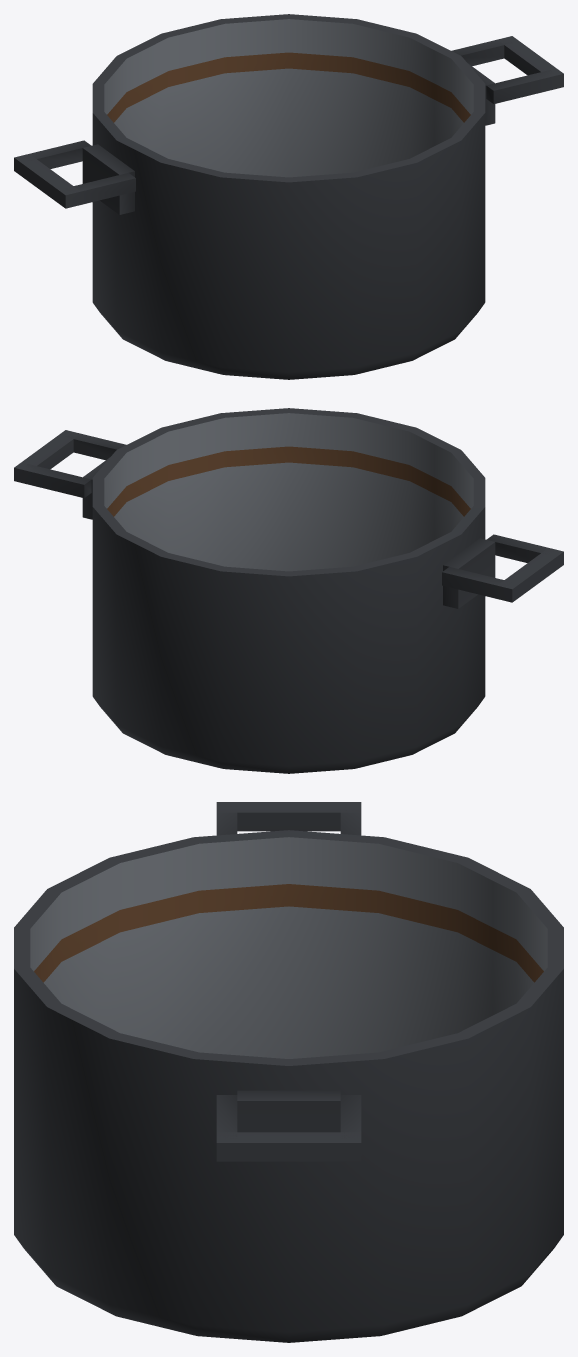
File: potDirty.glb
3 views of the same model, one above another, from view 1: azimuth 30°, elevation 25°; view 2: azimuth 150°, elevation 25°; view 3: azimuth 270°, elevation 25° (orthographic). The views are drawn at different scales.
Visible parts, largest first — view 1: potDirty; view 2: potDirty; view 3: potDirty.
Boxes of the visible parts, <box> form: potDirty: <box>14,14,563,379</box>; potDirty: <box>14,408,563,773</box>; potDirty: <box>14,802,563,1342</box>.
Size of the model in its own units: 0.39 by 0.15 by 0.2659.
